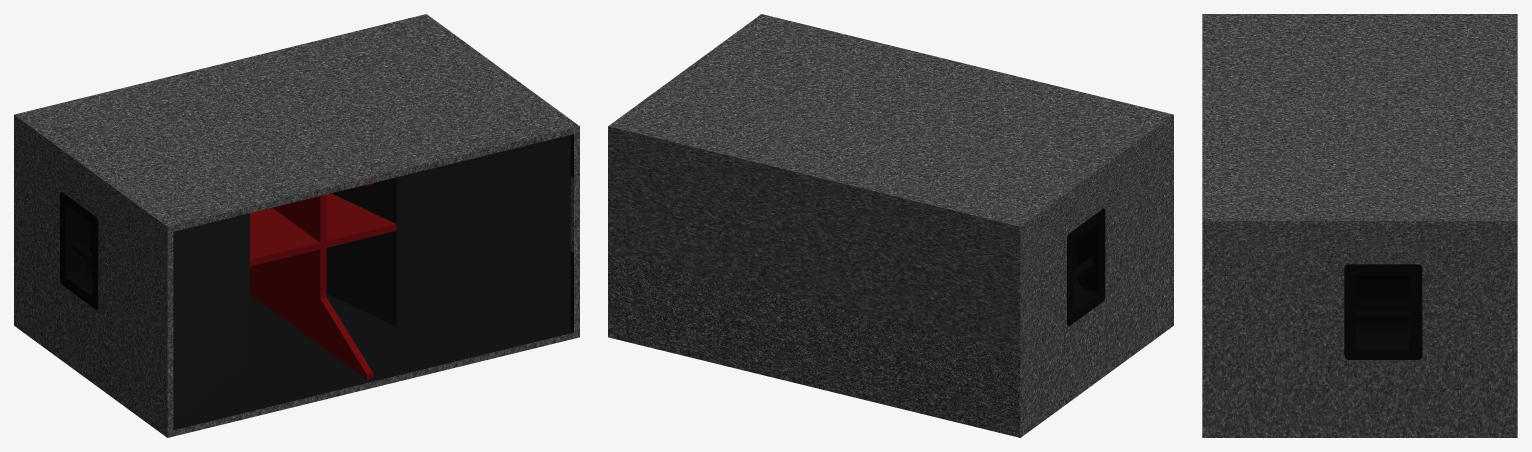
Rendered from bass_bin_3.glb.
3 renders of one model, left to right at view 1: azimuth 30°, elevation 25°; view 2: azimuth 150°, elevation 25°; view 3: azimuth 270°, elevation 25°, orthographic. The views are drawn at different scales.
Visible parts, largest first — view 1: Object_5, Object_9, Object_4, Object_7, Object_11; view 2: Object_5, Object_11; view 3: Object_5, Object_11.
Boxes of the visible parts, x1=… form: Object_5: x1=14, y1=14, x2=579, y2=437; Object_9: x1=173, y1=135, x2=570, y2=424; Object_4: x1=173, y1=134, x2=573, y2=430; Object_7: x1=250, y1=183, x2=396, y2=379; Object_11: x1=60, y1=192, x2=98, y2=309; Object_5: x1=608, y1=14, x2=1173, y2=437; Object_11: x1=1067, y1=208, x2=1105, y2=326; Object_5: x1=1202, y1=14, x2=1517, y2=437; Object_11: x1=1344, y1=264, x2=1422, y2=359.
Bounding box in the file's own units: 12.64 × 6.16 × 8.12.
6 materials, 1 textured.
